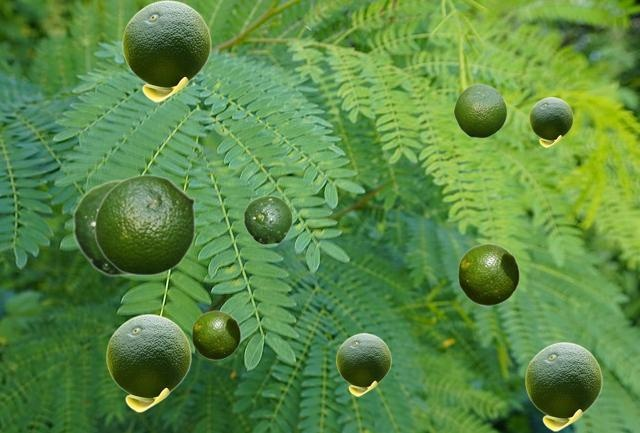calamansi: (94, 174, 195, 275), (122, 0, 210, 101), (106, 314, 190, 411), (525, 342, 601, 430), (72, 179, 130, 276), (457, 243, 519, 305), (336, 333, 390, 395), (453, 83, 506, 137), (191, 310, 240, 359), (243, 195, 292, 244), (529, 97, 572, 146)
